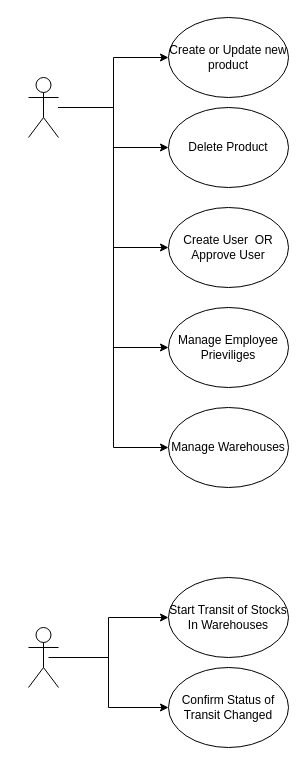
The diagram is 306 pixels wide and 765 high, and some of its shapes have lost their labels. The box of each missing label's shape, as (x1, y1, x2, y2) in pixels:
Admin: (28, 76, 58, 138)
Employee: (28, 626, 58, 688)
